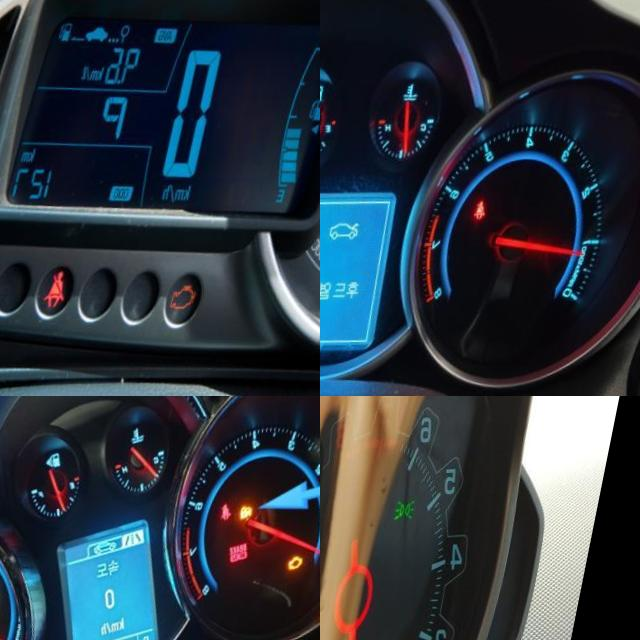SideLamp: (405, 499, 429, 522)
